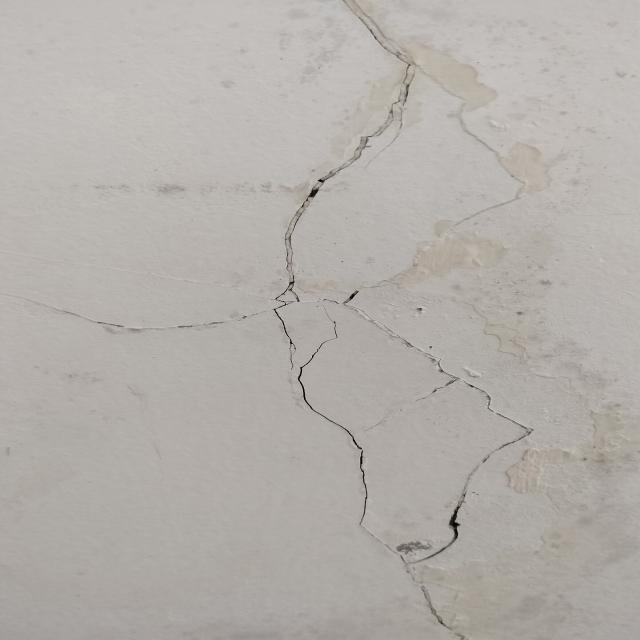Crack: (11, 2, 552, 640)
